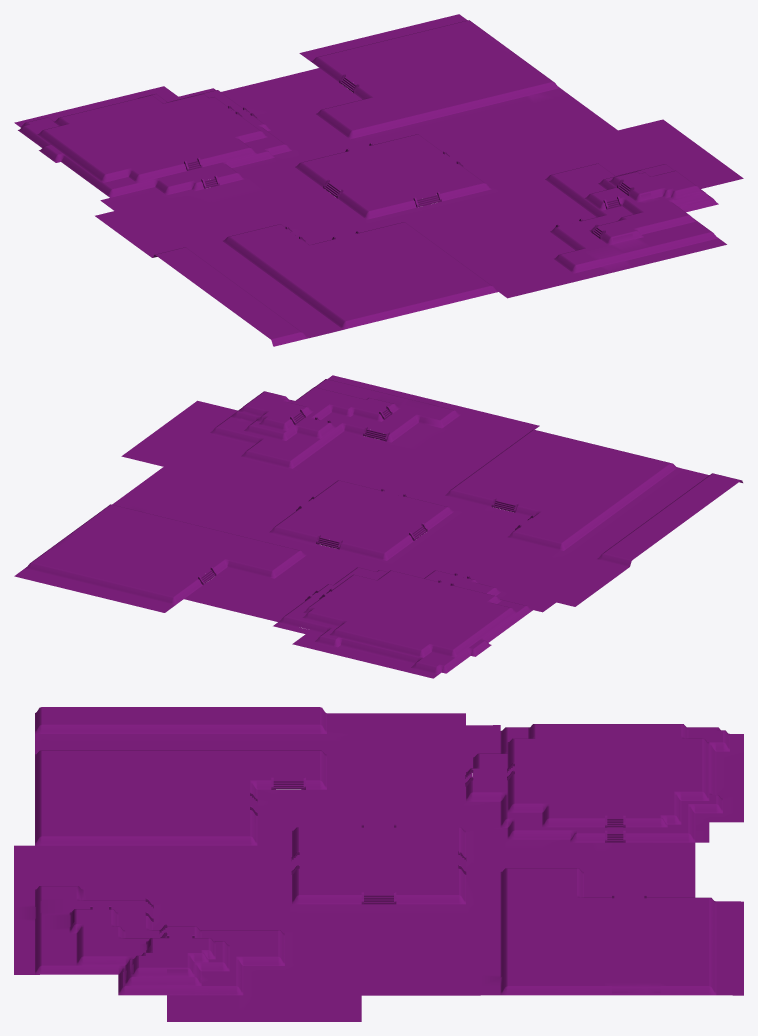
Rendered from WorldMap_Base_Floor.fbx.
3 views of the same model, one above another, from view 1: azimuth 30°, elevation 25°; view 2: azimuth 150°, elevation 25°; view 3: azimuth 270°, elevation 25° (orthographic). The views are drawn at different scales.
Parts seen in each view (by area): view 1: WorldMap_Base/Floor; view 2: WorldMap_Base/Floor; view 3: WorldMap_Base/Floor.
Part boxes in pixels (box(x1,y1,x2,y2)): WorldMap_Base/Floor: box(14, 14, 743, 346); WorldMap_Base/Floor: box(14, 375, 742, 678); WorldMap_Base/Floor: box(14, 707, 743, 1021).
Size of the model in its own units: 4134 by 4134 by 136.
